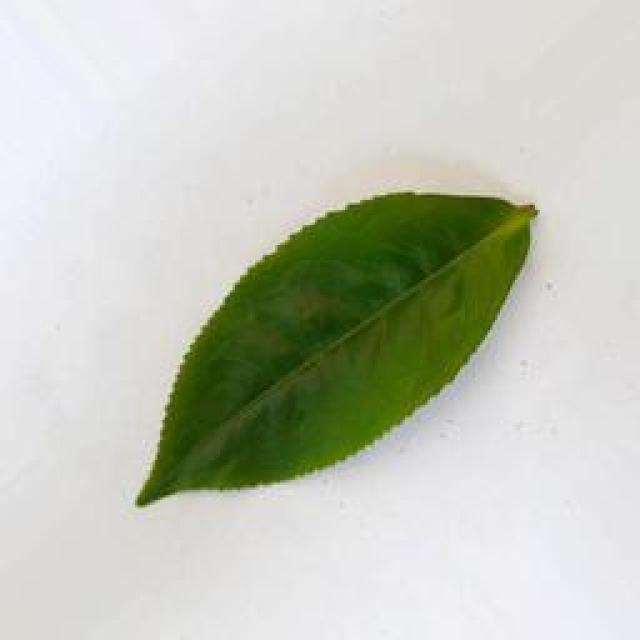Healthy: (126, 178, 554, 516)
